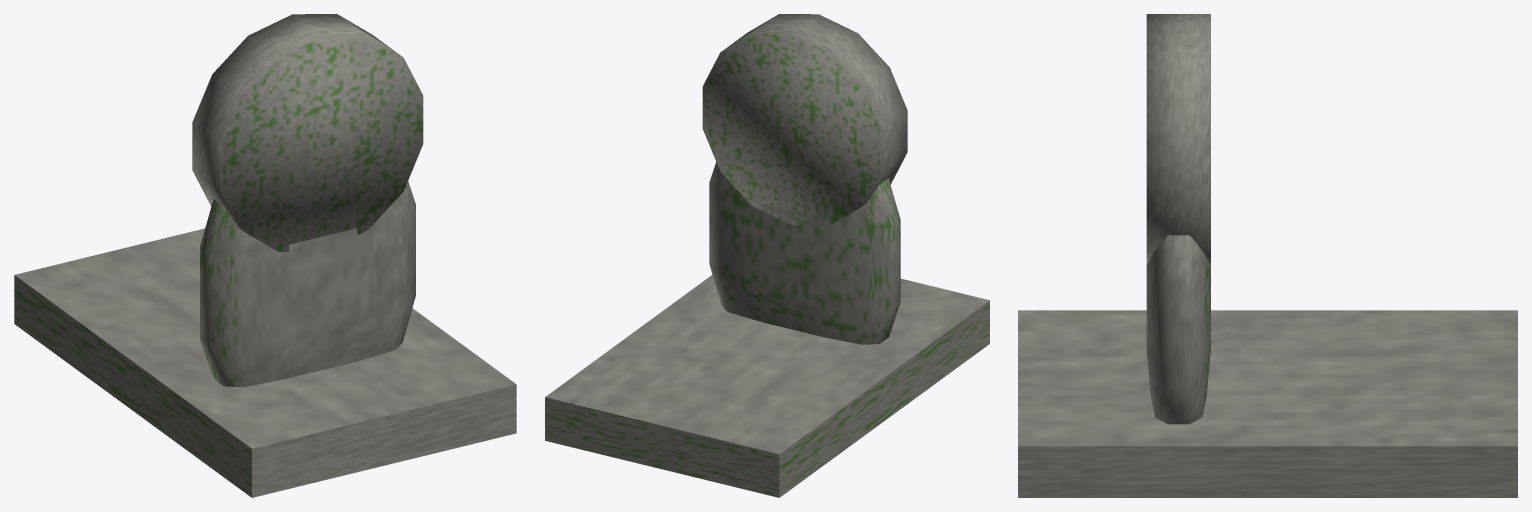
Rendered from prop_nisan_b.glb.
The picture shows the model from 3 angles, left to right: view 1: azimuth 30°, elevation 25°; view 2: azimuth 150°, elevation 25°; view 3: azimuth 270°, elevation 25°; orthographic projection. The views are drawn at different scales.
Parts seen in each view (by area): view 1: nisan_b; view 2: nisan_b; view 3: nisan_b.
Boxes of the visible parts, left/top/right/bottom form: nisan_b: left=14, top=14, right=516, bottom=497; nisan_b: left=545, top=14, right=989, bottom=497; nisan_b: left=1018, top=14, right=1517, bottom=497.
Bounding box in the file's own units: 0.9 × 1.25 × 1.4.
Materials: 1 (1 with a texture image).
